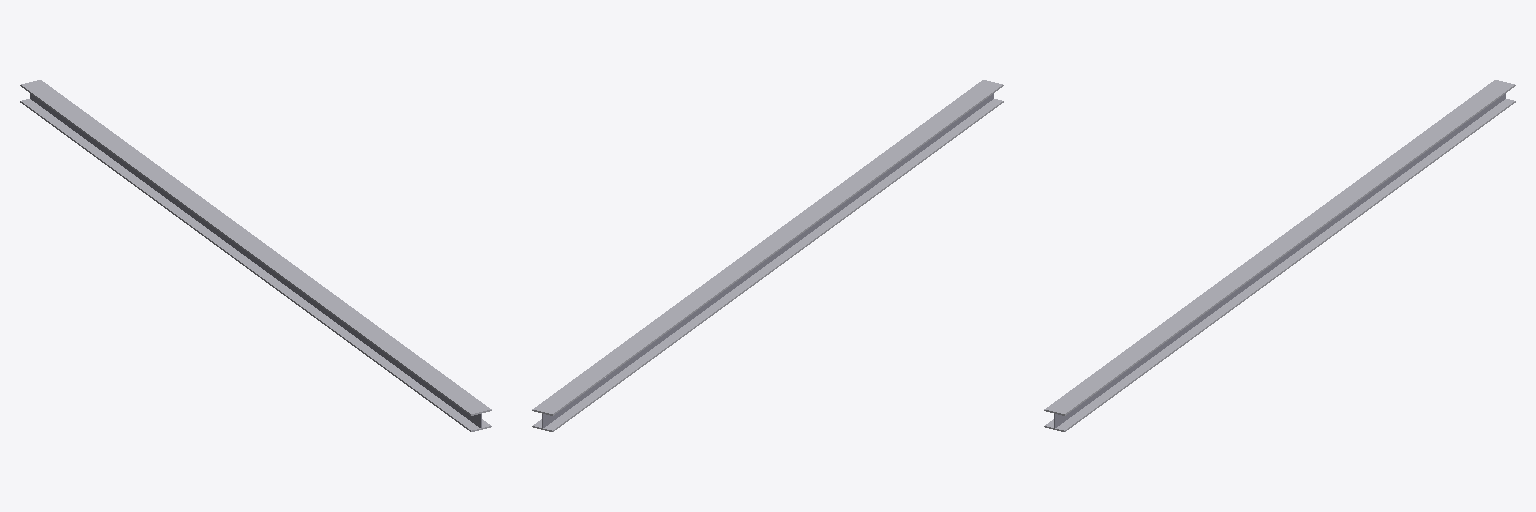
The robot description file, URDF, robot "h_bar":
<?xml version="1.0" ?>
<!-- =================================================================================== -->
<!-- |    This document was autogenerated by xacro from h_bar.xacro                    | -->
<!-- |    EDITING THIS FILE BY HAND IS NOT RECOMMENDED                                 | -->
<!-- =================================================================================== -->
<robot name="h_bar">
  <link name="world"/>
  <!-- Bottom leg (aligned with z-axis after rotation, below origin) -->
  <link name="hbar_bottom_leg">
    <visual>
      <origin rpy="0 1.57079633 0" xyz="0 0 0"/>
      <geometry>
        <!-- thickness x, profile width y, leg length along local z -->
        <box size="0.01 5.0 0.13"/>
      </geometry>
      <material name="hbar_material_bottom">
        <!-- Brushed steel-like gray -->
        <color rgba="0.75 0.75 0.78 1.0"/>
      </material>
    </visual>
    <collision>
      <origin rpy="0 1.57079633 0" xyz="0 0 0"/>
      <geometry>
        <box size="0.01 5.0 0.13"/>
      </geometry>
    </collision>
    <inertial>
      <origin rpy="0 0 0" xyz="0 0 0"/>
      <mass value="0.3333333333333333"/>
      <inertia ixx="0.6949138888888888" ixy="0.0" ixz="0.0" iyy="0.00047222222222222224" iyz="0.0" izz="0.6944472222222222"/>
    </inertial>
  </link>
  <!-- Top leg (aligned with z-axis after rotation, above origin) -->
  <link name="hbar_top_leg">
    <visual>
      <origin rpy="0 1.57079633 0" xyz="0 0 0"/>
      <geometry>
        <box size="0.01 5.0 0.13"/>
      </geometry>
      <material name="hbar_material_top">
        <!-- Brushed steel-like gray -->
        <color rgba="0.75 0.75 0.78 1.0"/>
      </material>
    </visual>
    <collision>
      <origin rpy="0 1.57079633 0" xyz="0 0 0"/>
      <geometry>
        <box size="0.01 5.0 0.13"/>
      </geometry>
    </collision>
    <inertial>
      <origin rpy="0 0 0" xyz="0 0 0"/>
      <mass value="0.3333333333333333"/>
      <inertia ixx="0.6949138888888888" ixy="0.0" ixz="0.0" iyy="0.00047222222222222224" iyz="0.0" izz="0.6944472222222222"/>
    </inertial>
  </link>
  <!-- Crossbar: vertical (aligned with z-axis) at the origin -->
  <link name="hbar_crossbar">
    <visual>
      <!-- Thickness in x,y, length in z -->
      <origin rpy="0 0 0" xyz="0 0 0"/>
      <geometry>
        <box size="0.01 5.0 0.1"/>
      </geometry>
      <material name="hbar_material_cross">
        <!-- Slightly darker steel for visual contrast -->
        <color rgba="0.65 0.65 0.7 1.0"/>
      </material>
    </visual>
    <collision>
      <origin rpy="0 0 0" xyz="0 0 0"/>
      <geometry>
        <box size="0.01 5.0 0.1"/>
      </geometry>
    </collision>
    <inertial>
      <origin rpy="0 0 0" xyz="0 0 0"/>
      <mass value="0.3333333333333333"/>
      <inertia ixx="0.6947222222222222" ixy="0.0" ixz="0.0" iyy="0.0002805555555555556" iyz="0.0" izz="0.6944472222222222"/>
    </inertial>
  </link>
  <!-- Fix crossbar to world; its center is at the macro pose -->
  <joint name="hbar_cross_fix" type="fixed">
    <parent link="world"/>
    <child link="hbar_crossbar"/>
    <origin rpy="0 0 0" xyz="0 0 0"/>
  </joint>
  <!-- Top leg: translated +L_leg/2 in x and +L_span/2 in z relative to crossbar -->
  <joint name="hbar_top_fix" type="fixed">
    <parent link="hbar_crossbar"/>
    <child link="hbar_top_leg"/>
    <origin rpy="0 0.0 0" xyz="0 0 0.05"/>
  </joint>
  <!-- Bottom leg: translated +L_leg/2 in x and -L_span/2 in z relative to crossbar -->
  <joint name="hbar_bottom_fix" type="fixed">
    <parent link="hbar_crossbar"/>
    <child link="hbar_bottom_leg"/>
    <origin rpy="0 0 0" xyz="0 0 -0.05"/>
  </joint>
</robot>

--- Render facts (derived) ---
The picture shows the robot from 3 angles, left to right: view 1: azimuth 30°, elevation 25°; view 2: azimuth 150°, elevation 25°; view 3: azimuth 330°, elevation 25°; orthographic projection.
Model h_bar with 4 links and 3 joints (3 fixed), rooted at world, posed every joint at zero.
Visible links, largest first — view 1: hbar_top_leg, hbar_bottom_leg, hbar_crossbar; view 2: hbar_top_leg, hbar_bottom_leg, hbar_crossbar; view 3: hbar_top_leg, hbar_bottom_leg, hbar_crossbar.
Link boxes in pixels (x1,y1,x2,y2): hbar_top_leg: [20, 80, 491, 415]; hbar_bottom_leg: [20, 99, 491, 431]; hbar_crossbar: [30, 93, 481, 427]; hbar_top_leg: [532, 80, 1003, 415]; hbar_bottom_leg: [532, 99, 1003, 431]; hbar_crossbar: [542, 93, 993, 427]; hbar_top_leg: [1044, 80, 1515, 415]; hbar_bottom_leg: [1044, 99, 1515, 431]; hbar_crossbar: [1054, 93, 1505, 428].
Bounding box of the posed robot: 0.13 × 5 × 0.11 m (x, y, z).
Geometry: primitives only (box / cylinder / sphere), no mesh files.
